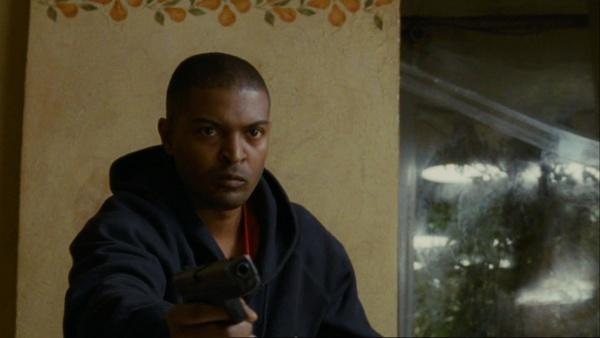Gun: (172, 254, 264, 329)
